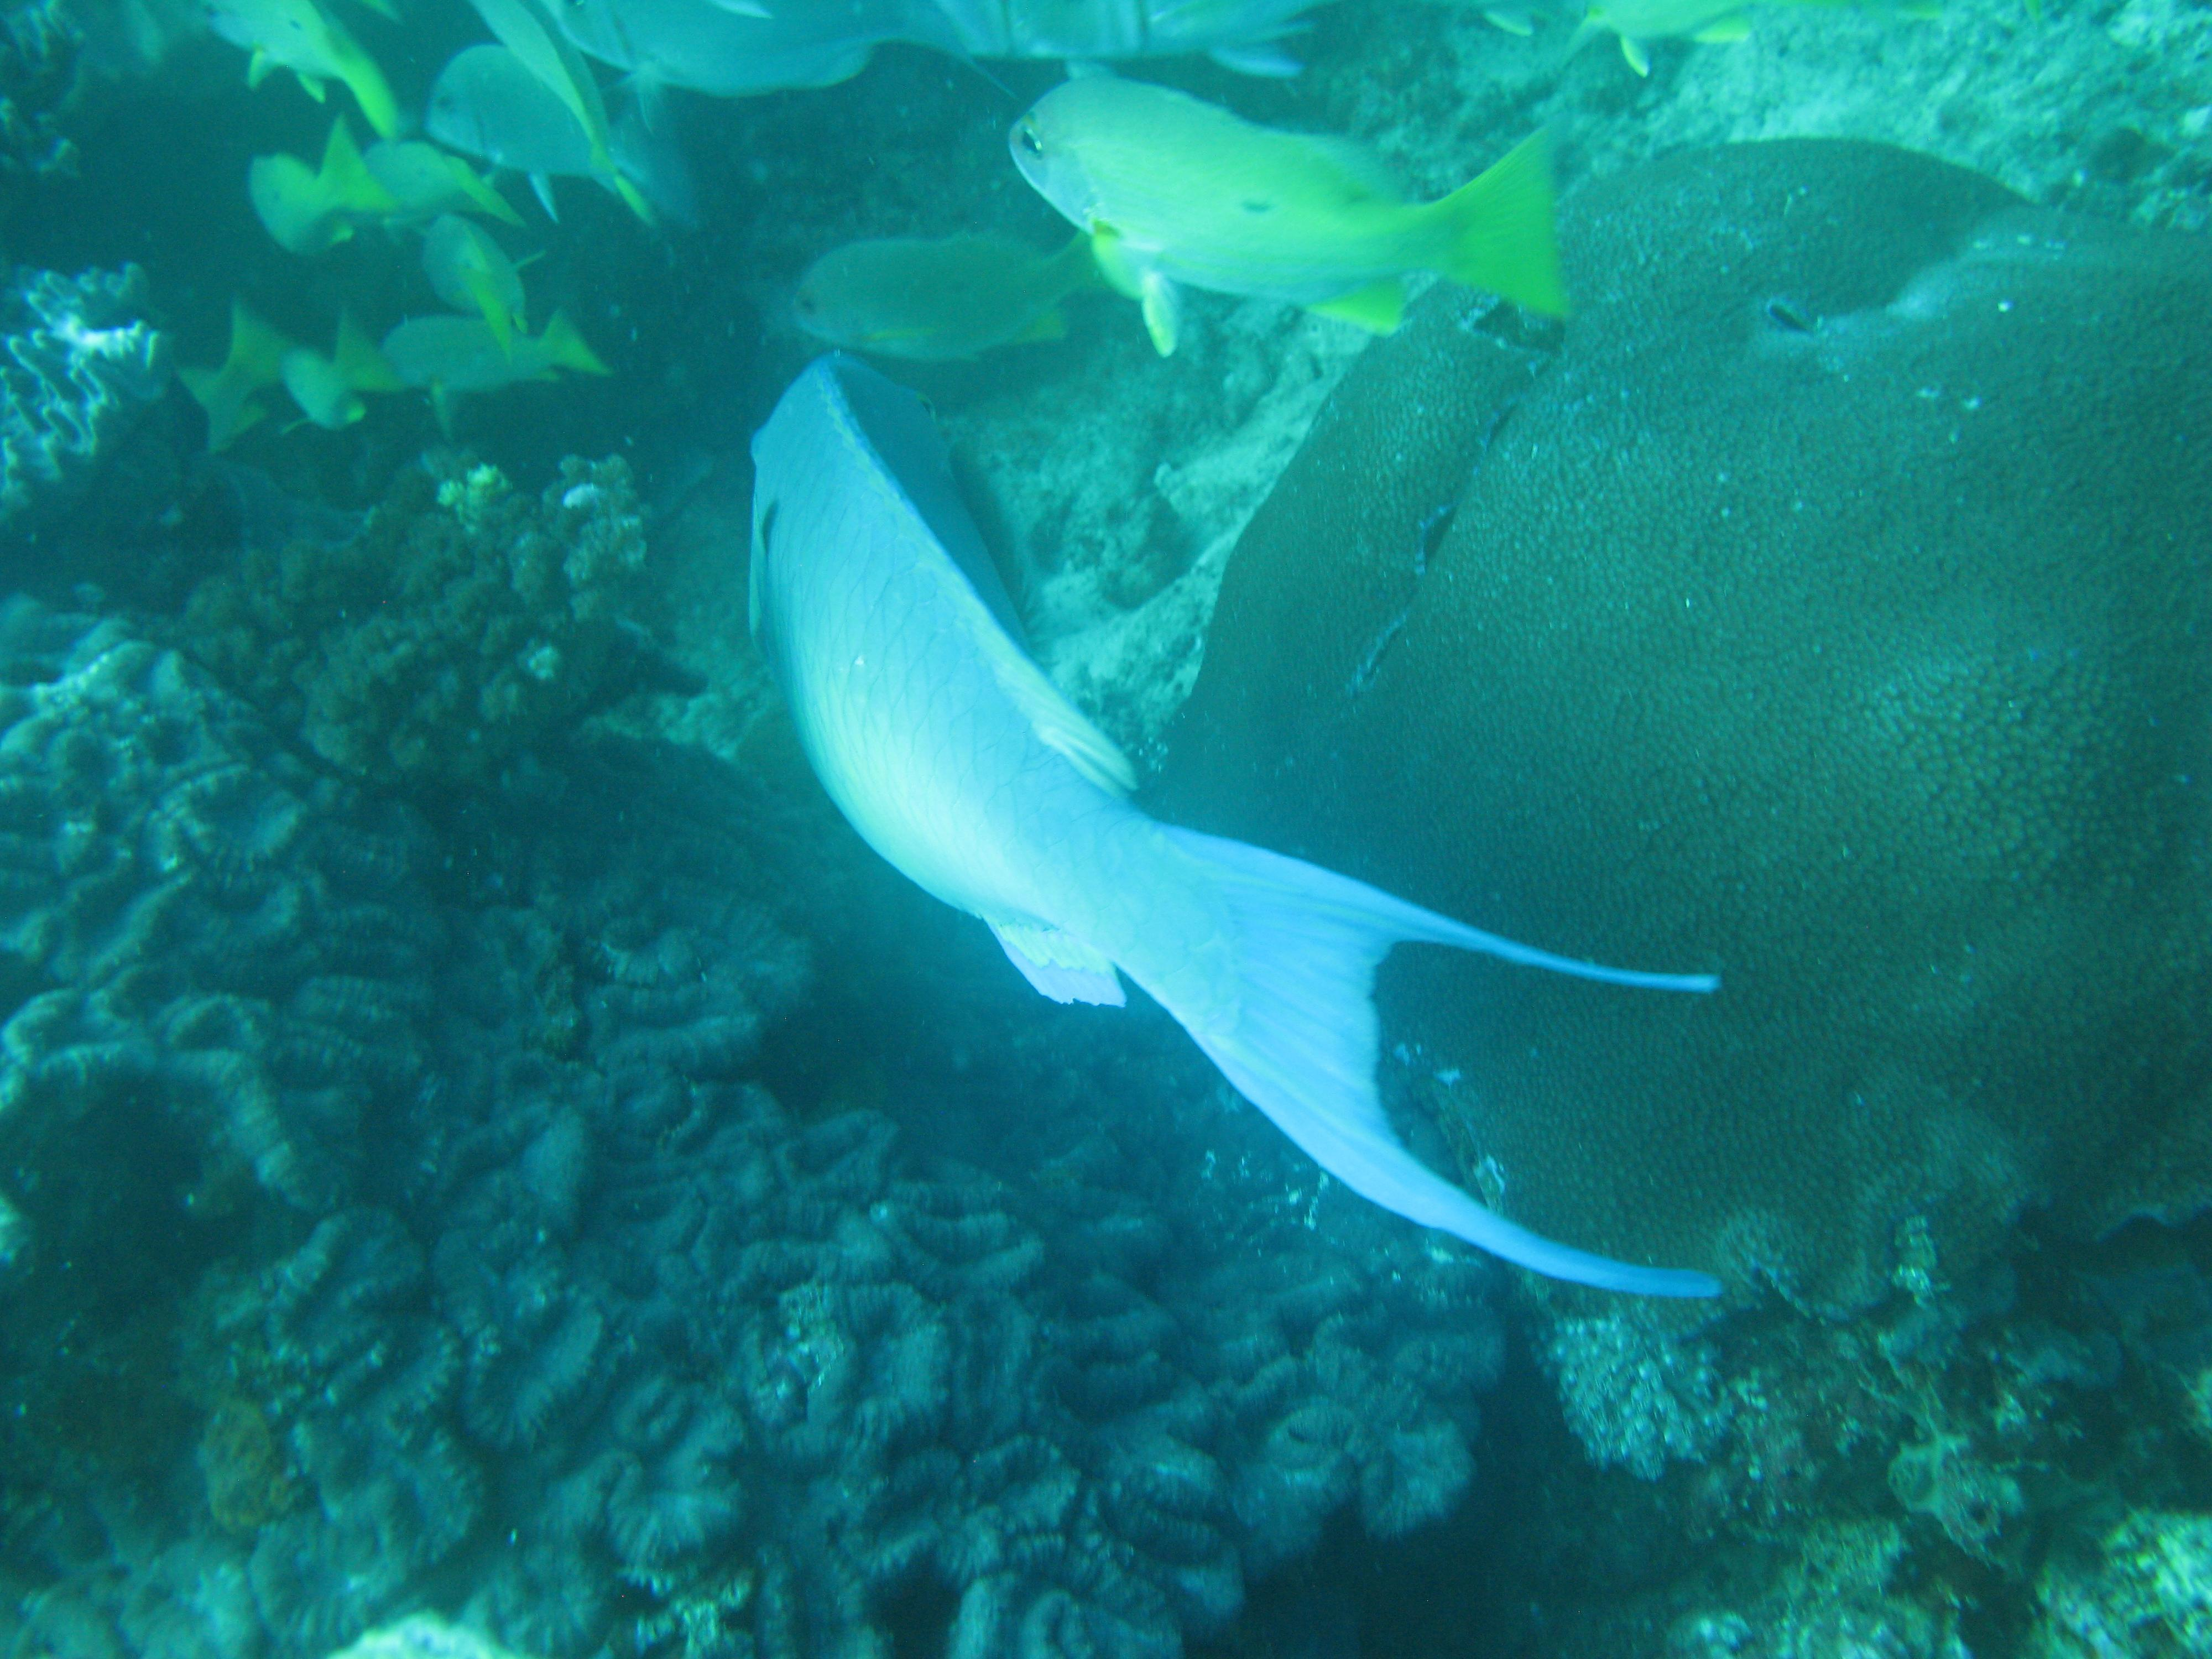Scarus rubroviolaceus: (697, 354, 1787, 1452)
